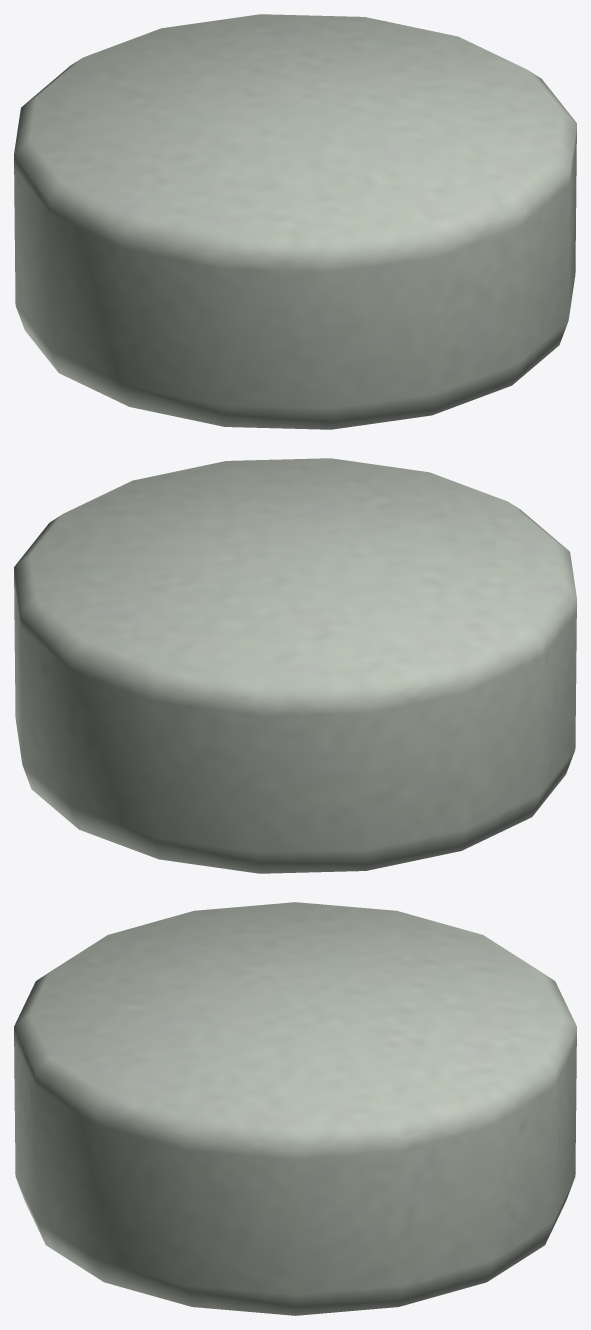
File: bottle_content_c.glb
3 renders of one model, top to bottom at view 1: azimuth 30°, elevation 25°; view 2: azimuth 150°, elevation 25°; view 3: azimuth 270°, elevation 25°, orthographic.
Parts seen in each view (by area): view 1: chemistry_set_bottle_content_c.001; view 2: chemistry_set_bottle_content_c.001; view 3: chemistry_set_bottle_content_c.001.
Boxes of the visible parts, x1,y1,x2,y2 form: chemistry_set_bottle_content_c.001: [14, 14, 576, 429]; chemistry_set_bottle_content_c.001: [14, 458, 576, 873]; chemistry_set_bottle_content_c.001: [14, 902, 576, 1315].
Size of the model in its own units: 0.0454 by 0.0192 by 0.0454.
Materials: 1 (1 with a texture image).
